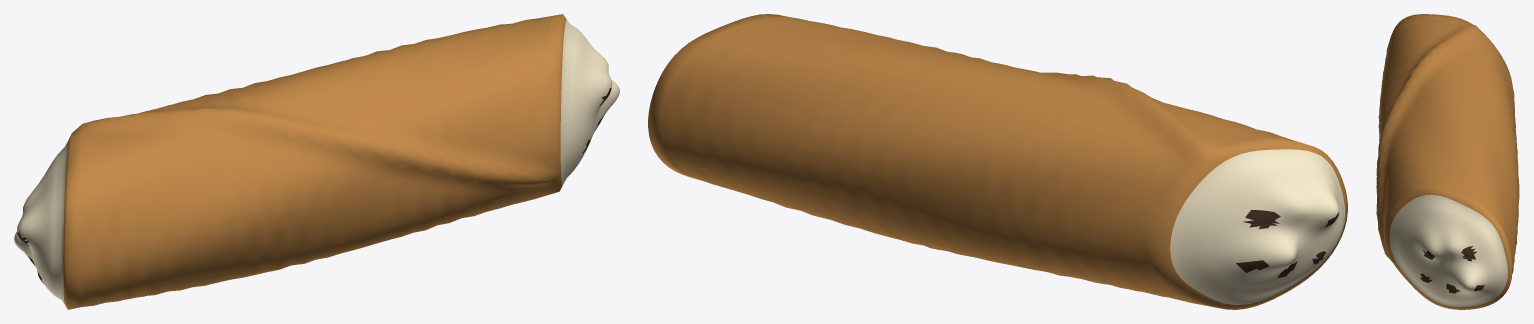
The model's file is NEW364_cannoli_LOD2.glb.
3 renders of one model, left to right at view 1: azimuth 30°, elevation 25°; view 2: azimuth 150°, elevation 25°; view 3: azimuth 270°, elevation 25°, orthographic. The views are drawn at different scales.
Visible parts, largest first — view 1: Whole_cannolo; view 2: Whole_cannolo; view 3: Whole_cannolo.
Boxes of the visible parts, <box> form: Whole_cannolo: <box>14,14,619,309</box>; Whole_cannolo: <box>648,14,1347,309</box>; Whole_cannolo: <box>1376,14,1519,309</box>.
Size of the model in its own units: 0.1612 by 0.043 by 0.0429.
